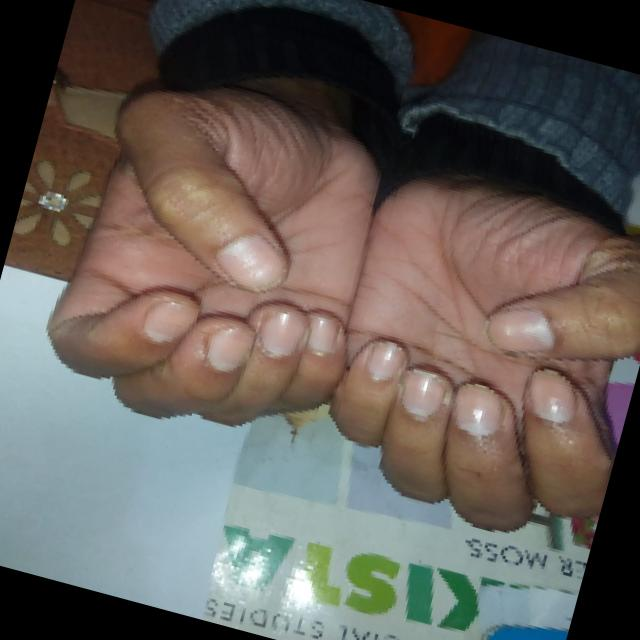Nail: (216, 235, 287, 291), (487, 309, 554, 351), (143, 297, 199, 343), (453, 385, 503, 436), (530, 369, 576, 422), (261, 309, 305, 357), (206, 327, 253, 371), (401, 370, 445, 417), (366, 342, 405, 380), (307, 314, 339, 355)
